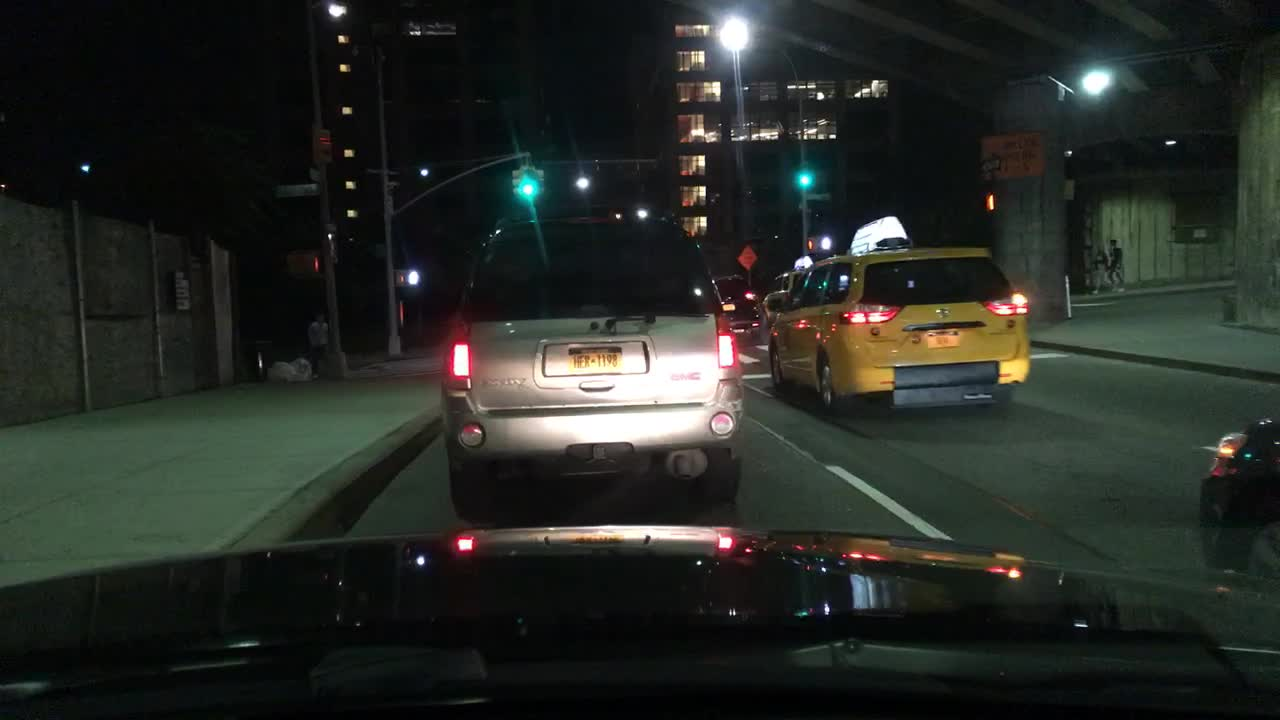car: (440, 215, 746, 527), (770, 247, 1031, 416), (1198, 416, 1278, 575), (714, 275, 763, 339), (765, 269, 807, 331)
person: (306, 308, 330, 379), (1088, 243, 1110, 295), (1104, 240, 1124, 291)
traffic light: (511, 165, 546, 196), (313, 127, 333, 163), (394, 270, 421, 288), (807, 237, 838, 252), (306, 253, 324, 273), (795, 172, 814, 187)
traffic sign: (979, 134, 1047, 180), (733, 243, 761, 271), (273, 183, 322, 196), (1065, 178, 1075, 200), (308, 165, 322, 178)
